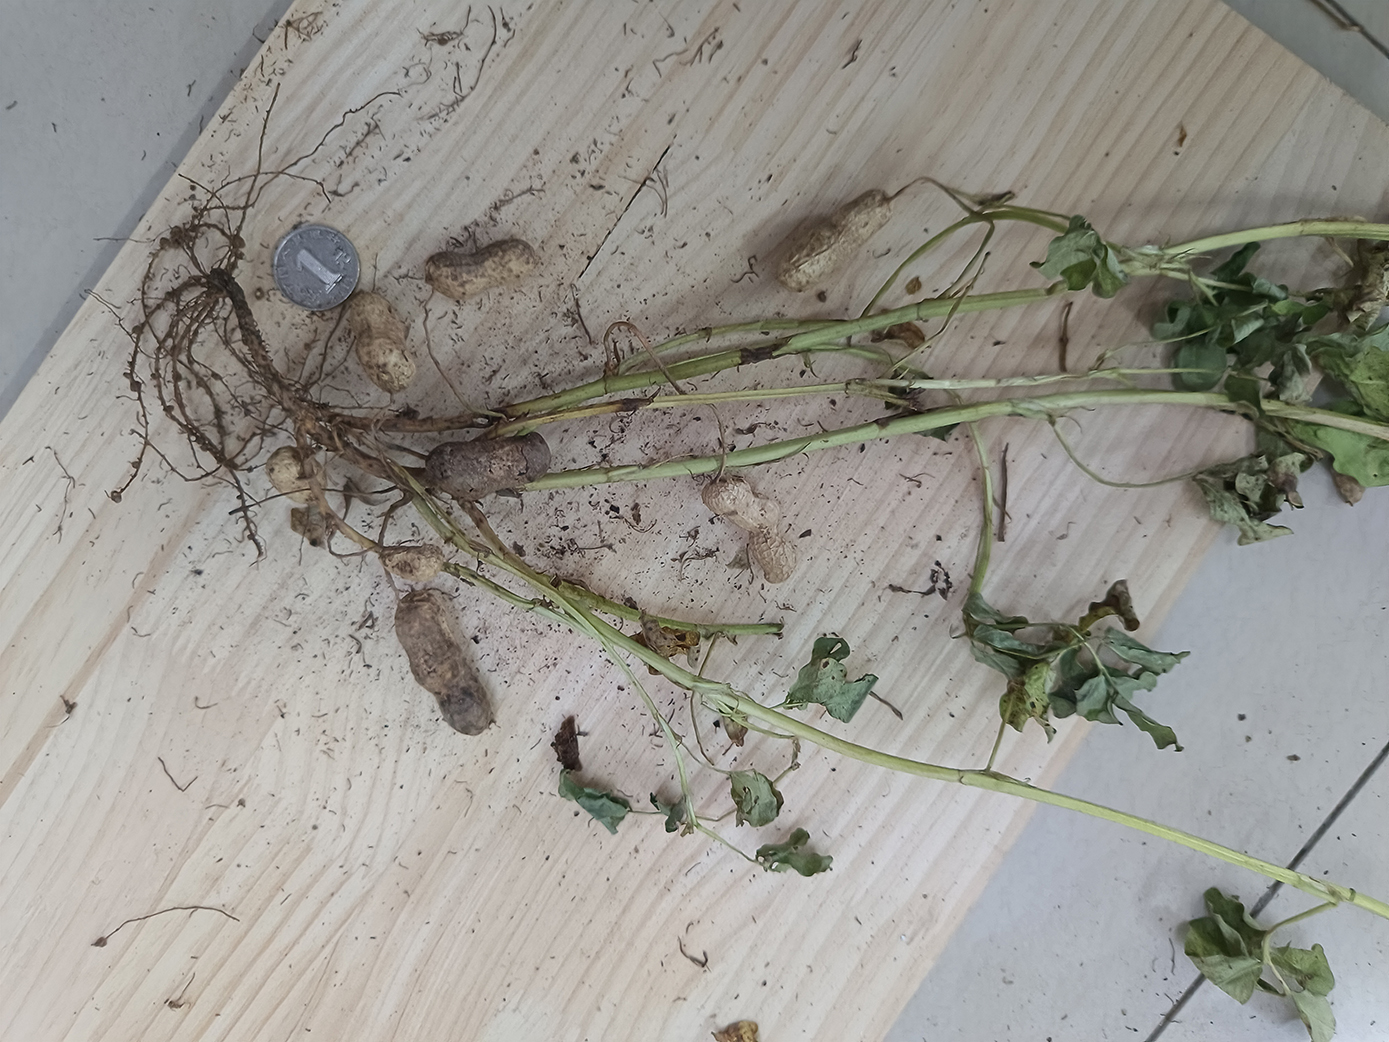h: (779, 190, 891, 290), (702, 477, 798, 584), (348, 291, 417, 393), (266, 447, 327, 503), (378, 544, 444, 580)
l: (395, 590, 493, 736), (425, 432, 554, 501), (424, 240, 539, 298)
